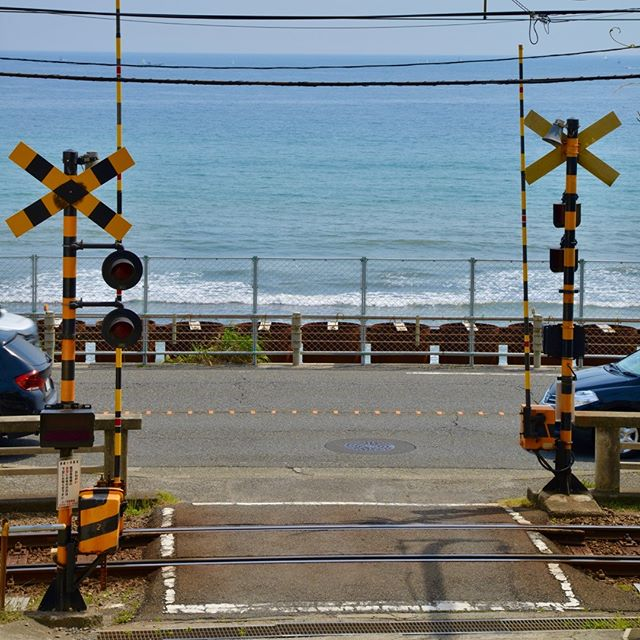sea: (21, 51, 640, 318)
sky: (1, 1, 635, 60)
street: (90, 356, 525, 505)
train track: (137, 507, 569, 640)
